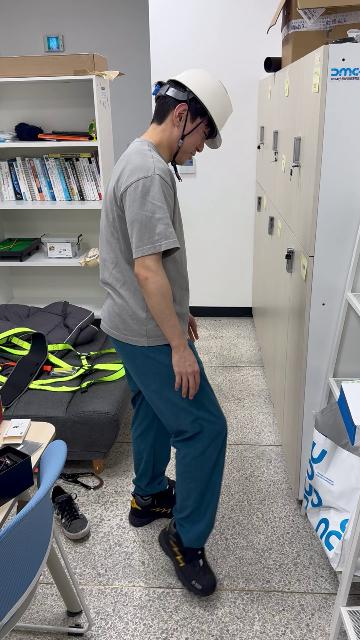helmet_worn: (166, 69, 232, 146)
shoe_not_worn: (51, 484, 91, 539)
shoe_worn: (160, 518, 217, 597), (128, 478, 177, 526)
vest_not_worn: (102, 140, 194, 360)
